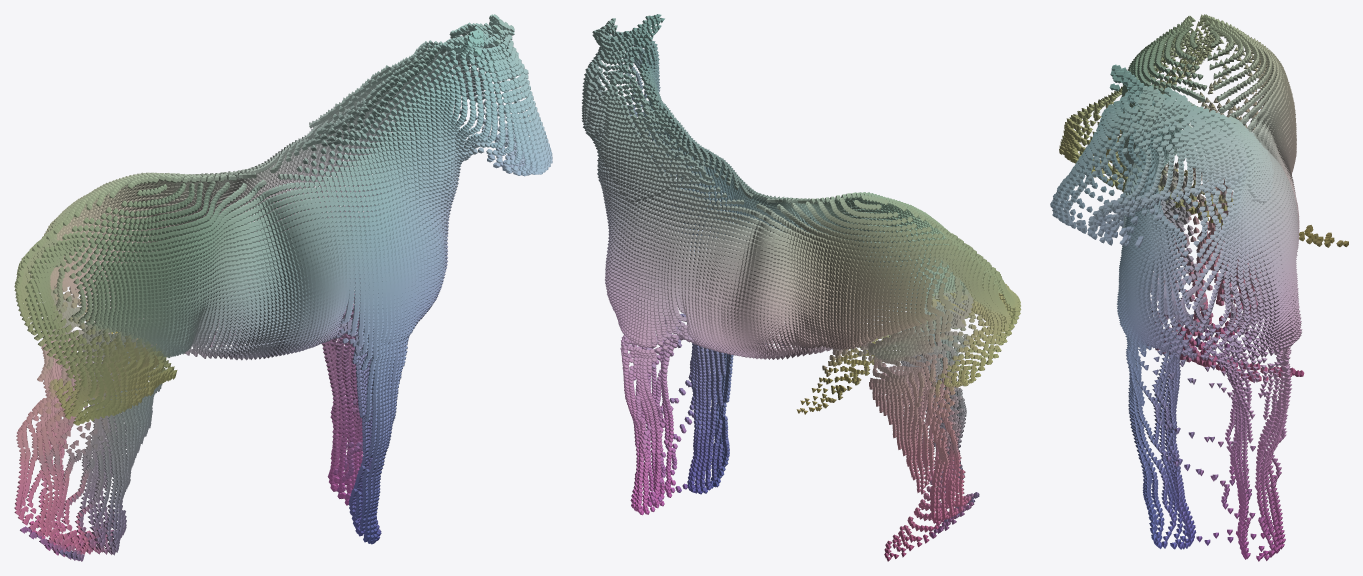
File: 2008_001682_1_pcan.glb
3 views of the same model, side by side, from view 1: azimuth 30°, elevation 25°; view 2: azimuth 150°, elevation 25°; view 3: azimuth 270°, elevation 25° (orthographic). The views are drawn at different scales.
Visible parts, largest first — view 1: target; view 2: target; view 3: target.
Boxes of the visible parts, <box> form: target: <box>14,14,552,561</box>; target: <box>582,14,1021,561</box>; target: <box>1050,14,1348,561</box>.
Size of the model in its own units: 2.31 by 2.3 by 1.19.
